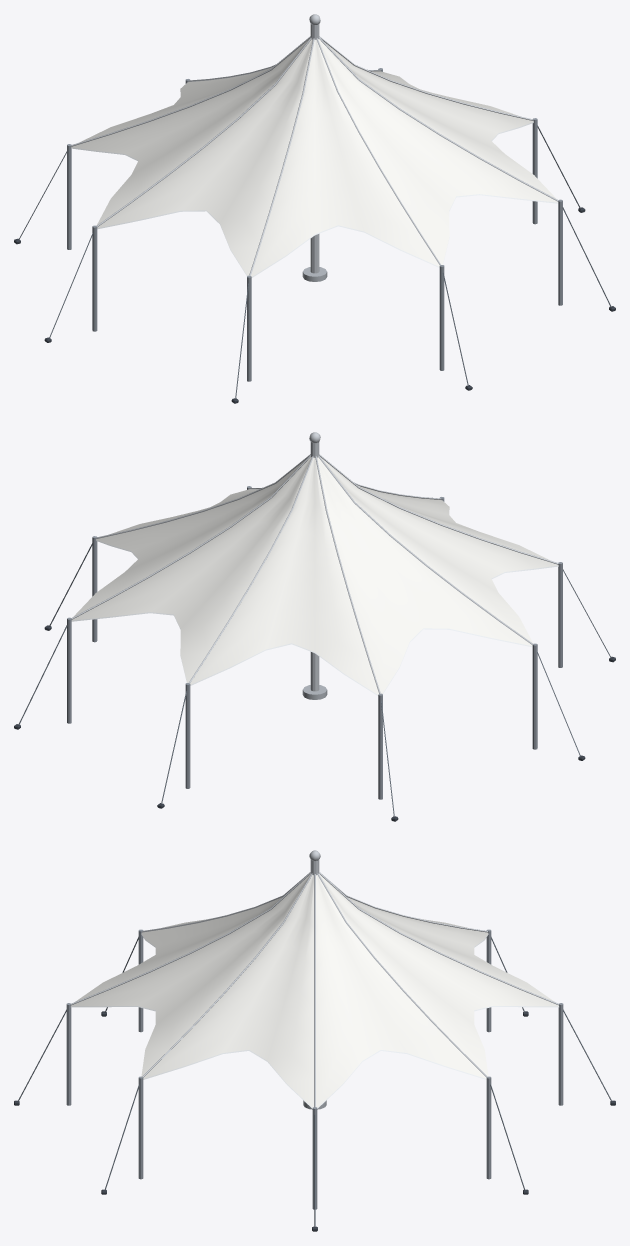
File: tenda_estrela_branca.glb
3 views of the same model, one above another, from view 1: azimuth 30°, elevation 25°; view 2: azimuth 150°, elevation 25°; view 3: azimuth 270°, elevation 25° (orthographic). The views are drawn at different scales.
Parts seen in each view (by area): view 1: tenda_estrela_branca; view 2: tenda_estrela_branca; view 3: tenda_estrela_branca.
Boxes of the visible parts, left/top/right/bottom form: tenda_estrela_branca: left=14, top=14, right=615, bottom=403; tenda_estrela_branca: left=14, top=432, right=615, bottom=821; tenda_estrela_branca: left=14, top=850, right=615, bottom=1231.
Size of the model in its own units: 12.72 by 5.92 by 12.72.
Materials: 2 (1 with a texture image).
